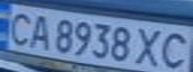3: (90, 20, 115, 61)
8: (109, 24, 136, 64), (48, 16, 75, 54)
9: (69, 19, 93, 57)
A: (24, 11, 54, 50)
C: (154, 29, 193, 71), (3, 9, 36, 46)
X: (133, 25, 166, 68)
